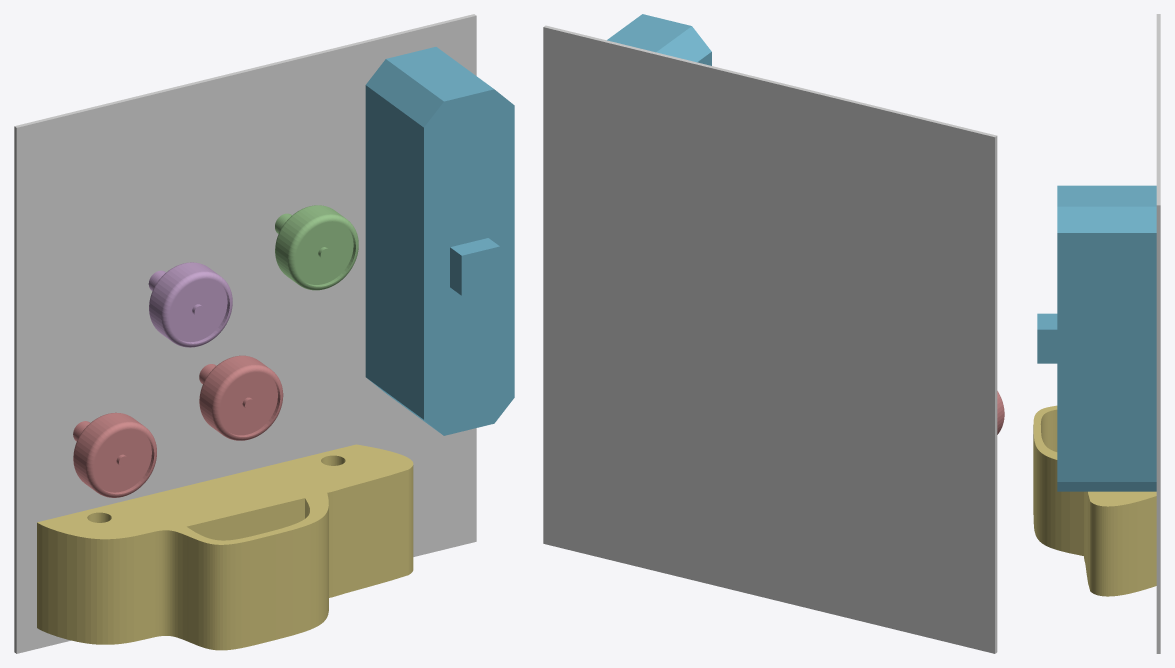
File: pickup_layout.glb
The picture shows the model from 3 angles, left to right: view 1: azimuth 30°, elevation 25°; view 2: azimuth 150°, elevation 25°; view 3: azimuth 270°, elevation 25°; orthographic projection. The views are drawn at different scales.
Visible parts, largest first — view 1: world, 1.obj, 2.obj, 5.obj, 3.obj, 4.obj, 0.obj; view 2: world, 2.obj; view 3: 2.obj, 1.obj, world.
Part boxes in pixels (x1,y1,x2,y2): world: (14,14,476,653); 1.obj: (37,444,413,650); 2.obj: (365,47,514,435); 5.obj: (199,355,283,440); 3.obj: (148,262,232,347); 4.obj: (275,205,358,290); 0.obj: (73,412,156,497); world: (543,25,997,653); 2.obj: (607,14,711,65); 2.obj: (1037,185,1156,491); 1.obj: (1033,405,1156,596); world: (1156,14,1160,653).
Bounding box in the file's own units: 22.8 × 24.92 × 6.39.
